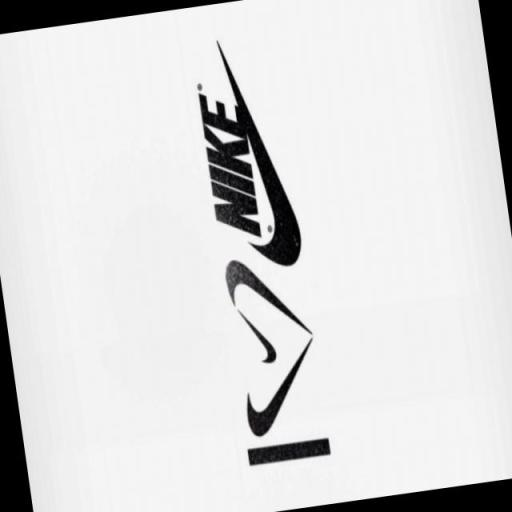Nike: (213, 28, 310, 275), (195, 85, 266, 243)
